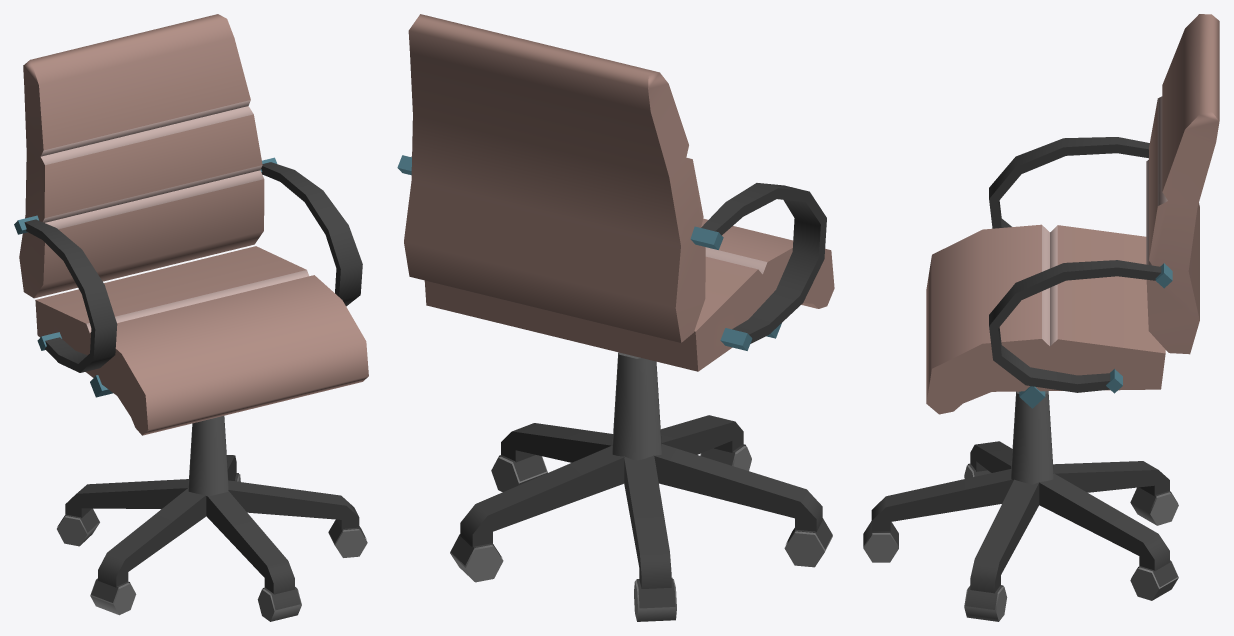
The model's file is office_chair_009.glb.
The picture shows the model from 3 angles, left to right: view 1: azimuth 30°, elevation 25°; view 2: azimuth 150°, elevation 25°; view 3: azimuth 270°, elevation 25°; orthographic projection. The views are drawn at different scales.
Visible parts, largest first — view 1: office_chair_009; view 2: office_chair_009; view 3: office_chair_009.
Boxes of the visible parts, x1,y1,x2,y2 form: office_chair_009: (14, 14, 368, 621); office_chair_009: (397, 14, 834, 621); office_chair_009: (863, 14, 1219, 621).
Size of the model in its own units: 0.6103 by 0.9998 by 0.6552.
1 material, 1 textured.
